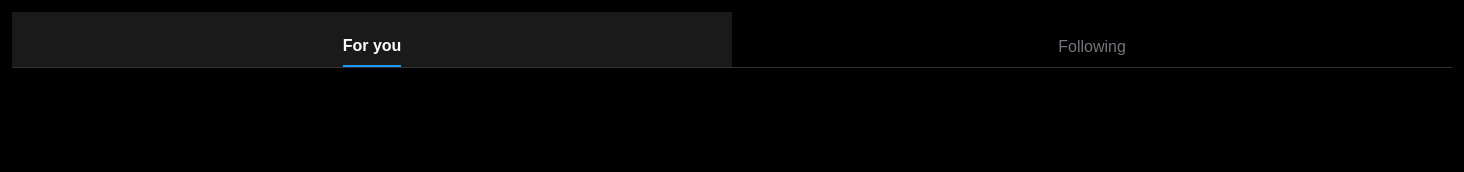
Test: FeedTypeTab › should switch the active tab when clicked
Click the tab "Following" at (1092,40), box [732,13,1452,66]
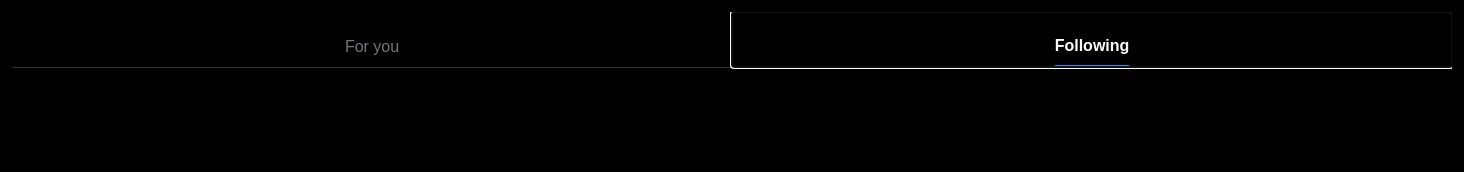
Now the tab "Following" is selected, box [732,12,1452,67]
Now the tab "For you" is not selected, box [12,13,732,66]
